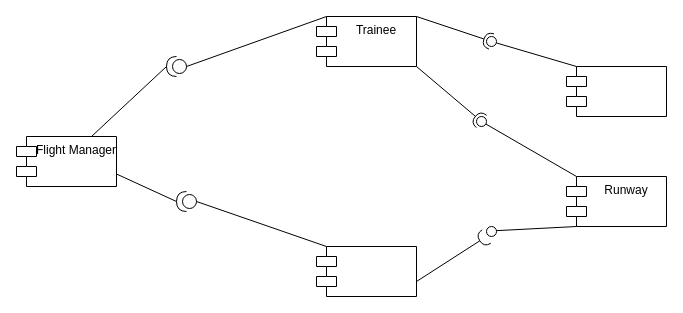
Image size: 683x313. Some labels were removed from this diagram. The box of each missing label's shape, as (x1, y1, x2, y2) in pixels:
Aircraft: (566, 66, 666, 116)
ATC Staff: (316, 246, 416, 296)
